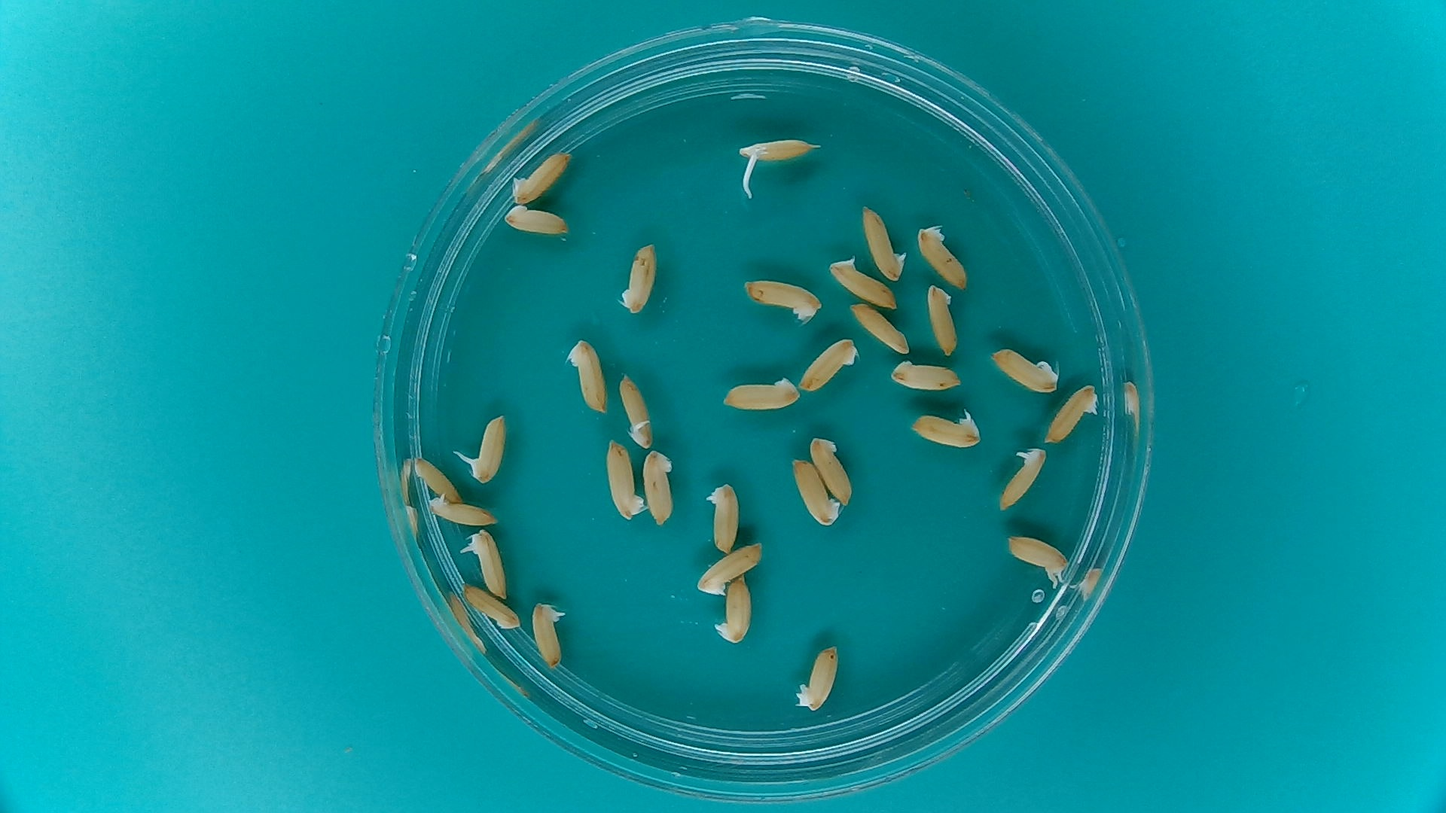no: (826, 251, 901, 312), (737, 274, 825, 324), (914, 221, 973, 293), (859, 199, 909, 283), (787, 455, 842, 531), (693, 539, 767, 595), (1042, 380, 1104, 446), (615, 235, 663, 319), (563, 332, 611, 416), (509, 145, 575, 206), (797, 333, 862, 394), (792, 639, 843, 716), (602, 437, 646, 525), (806, 431, 856, 507), (848, 300, 912, 357), (905, 406, 985, 451), (718, 372, 805, 413), (459, 580, 524, 631), (641, 443, 678, 531), (704, 477, 743, 557), (887, 357, 969, 393), (925, 281, 962, 358), (409, 455, 463, 505), (501, 202, 574, 238)
yes: (995, 442, 1050, 517), (985, 344, 1062, 397), (464, 527, 511, 601), (712, 573, 757, 650), (1002, 532, 1069, 580), (529, 598, 572, 671), (618, 370, 656, 450), (467, 410, 506, 483), (426, 495, 502, 530), (740, 138, 821, 166)
